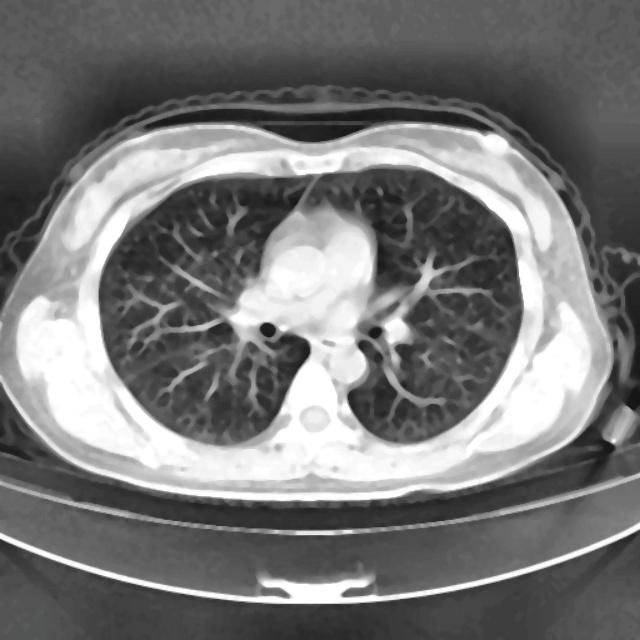covid: (1, 96, 619, 506)
